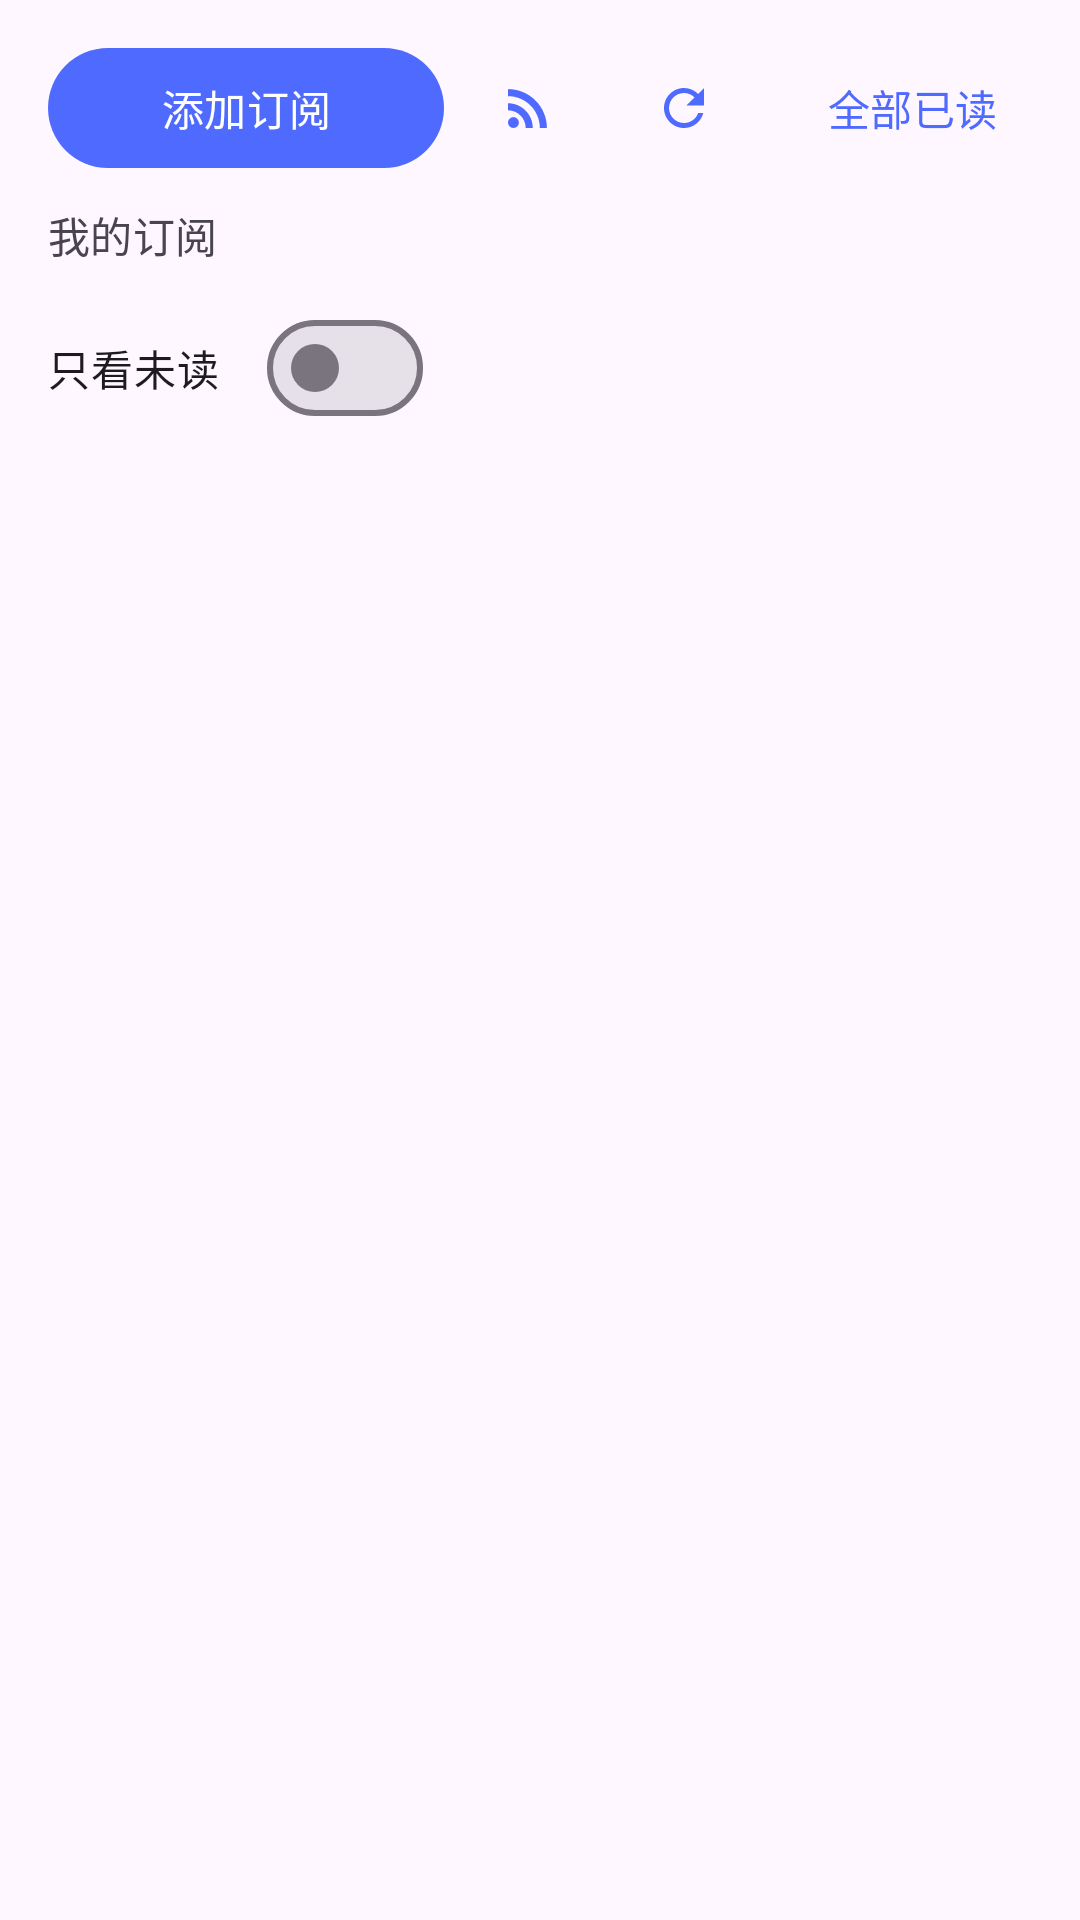

Locate icon controls on the screen. Image size 1080px×1920px, boxes as (x1, y1, x2, y2).
刷新订阅: (664, 88, 704, 128)
源管理: (508, 89, 547, 128)
